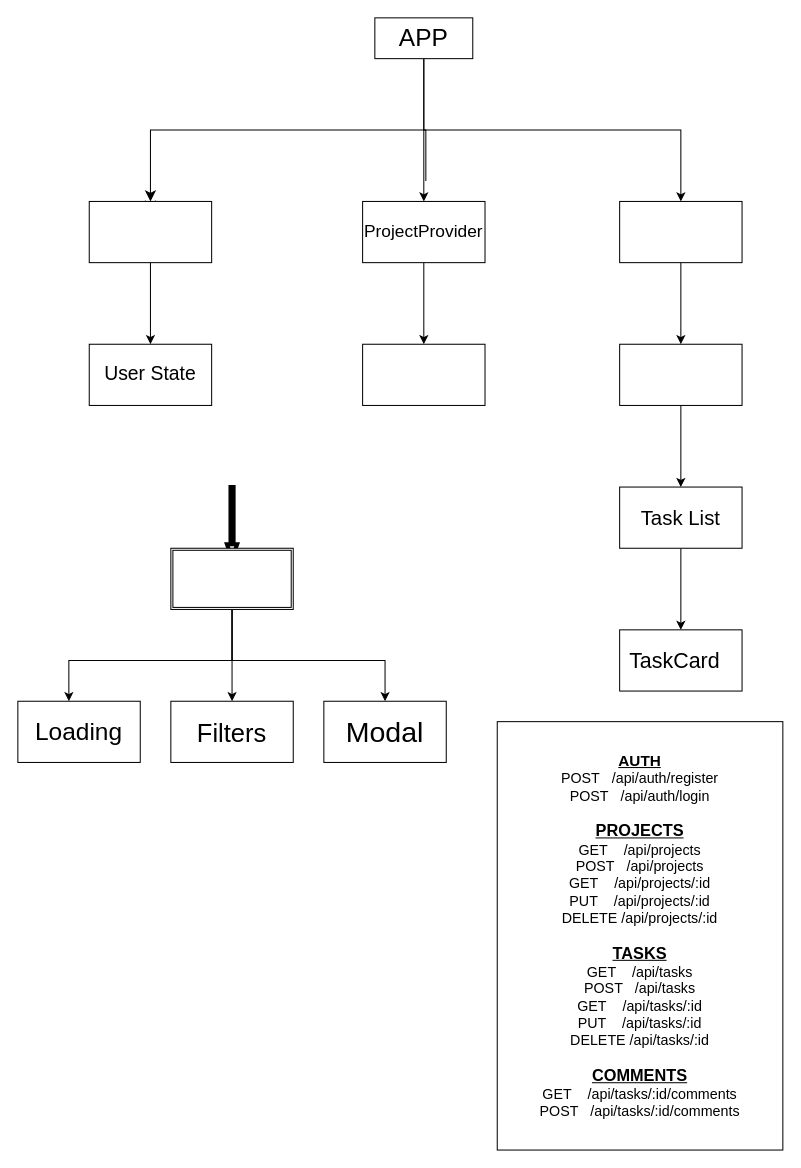
Some shapes in this 801 by 1168 pixel diagram are drawn without their labels. The shapes that lost their labels are listed below. From the top down, each one's centre as x and y in pixels, then its label:
At (x=150, y=231): "AuthProvider".
At (x=680, y=231): "TaskProvider".
At (x=423, y=374): "Project State".
At (x=680, y=374): "Task State".
At (x=231, y=578): "UI State".
